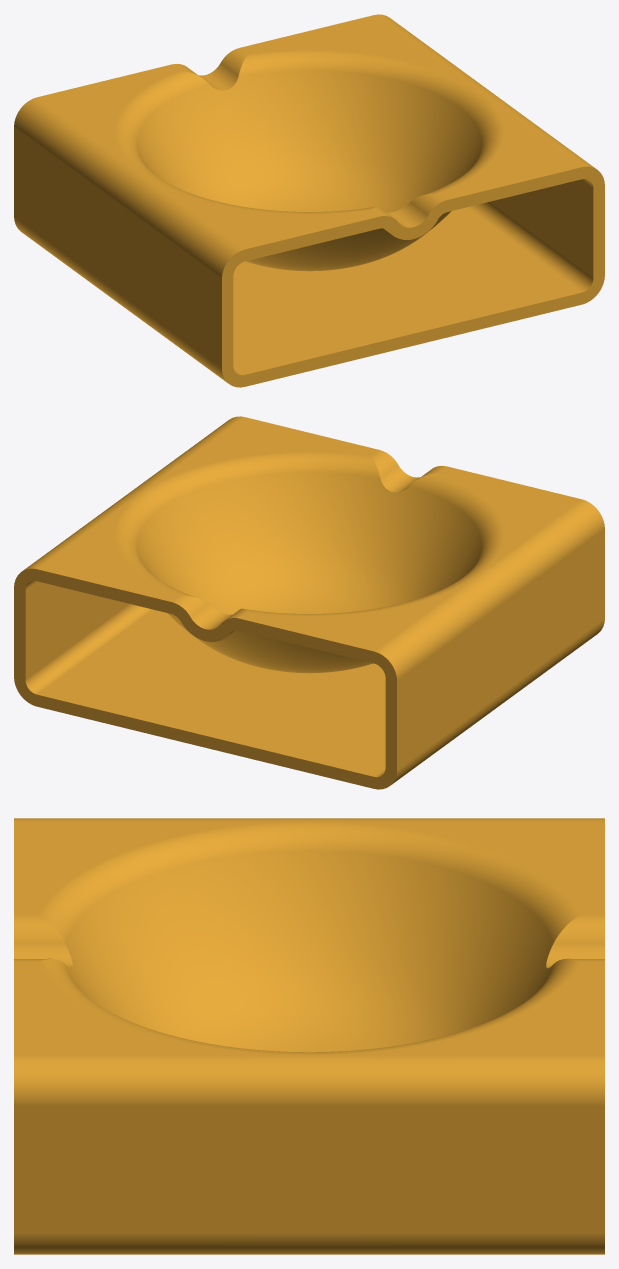
The model's file is cendrier.glb.
3 views of the same model, one above another, from view 1: azimuth 30°, elevation 25°; view 2: azimuth 150°, elevation 25°; view 3: azimuth 270°, elevation 25° (orthographic). The views are drawn at different scales.
Visible parts, largest first — view 1: Layer 04(EC46A43D-B70E-4299-AE71-B58761240DCB); view 2: Layer 04(EC46A43D-B70E-4299-AE71-B58761240DCB); view 3: Layer 04(EC46A43D-B70E-4299-AE71-B58761240DCB).
Part boxes in pixels (x1,y1,x2,y2): Layer 04(EC46A43D-B70E-4299-AE71-B58761240DCB): (14, 14, 604, 387); Layer 04(EC46A43D-B70E-4299-AE71-B58761240DCB): (14, 416, 604, 789); Layer 04(EC46A43D-B70E-4299-AE71-B58761240DCB): (14, 818, 604, 1254).
Size of the model in its own units: 0.1064 by 0.0365 by 0.1.
